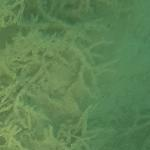dead: (1, 4, 146, 148)
